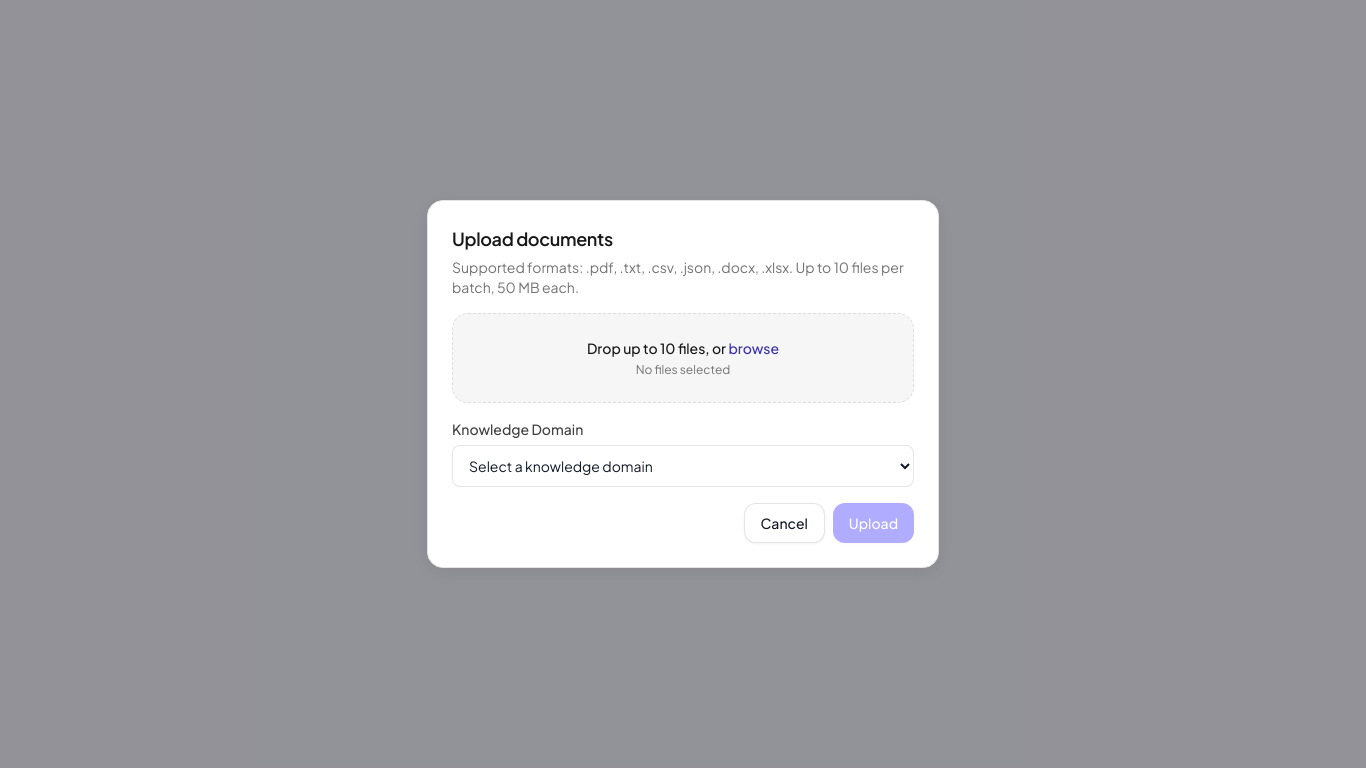
Test: DocumentUploadDialog + Create Domain architecture › Escape while Create Domain is open closes only Create Domain
Select "+ Create New Domain" in the dropdown labelled "Knowledge Domain". click: (683, 466)
box: [452,445,914,487]
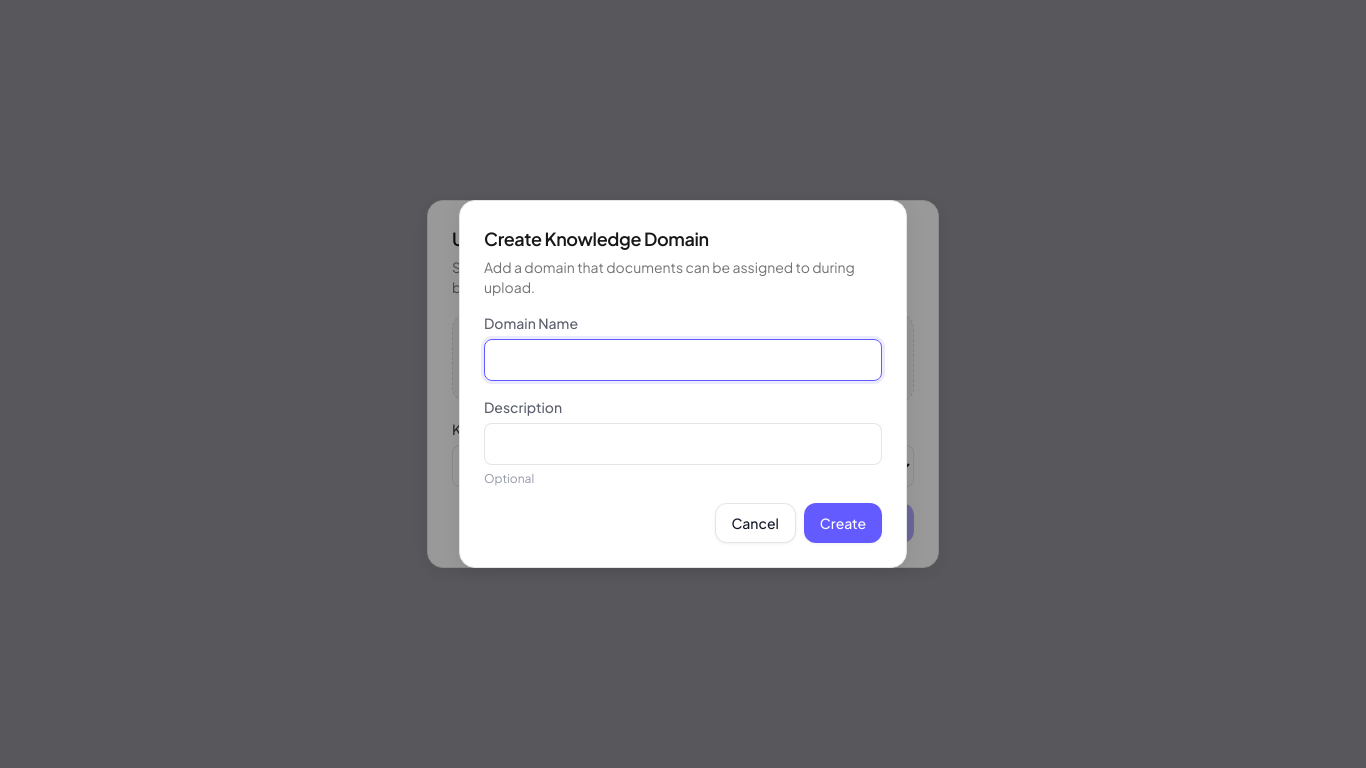
Expected: the dialog with test id "create-knowledge-domain-dialog" is shown, [459,200,907,568]
Press Escape
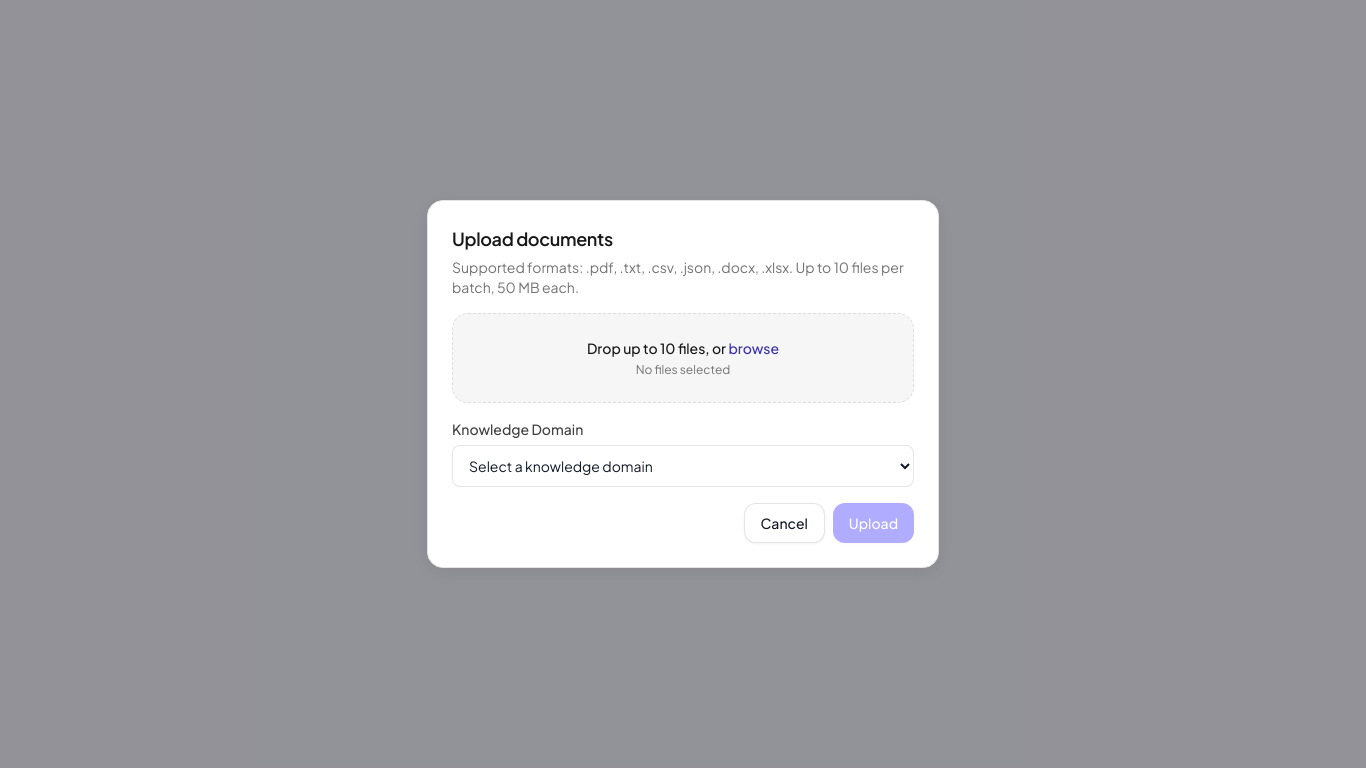
Expected: the dialog with test id "document-upload-dialog" is shown, [427,200,939,568]
Expected: the dialog with test id "create-knowledge-domain-dialog" is gone
